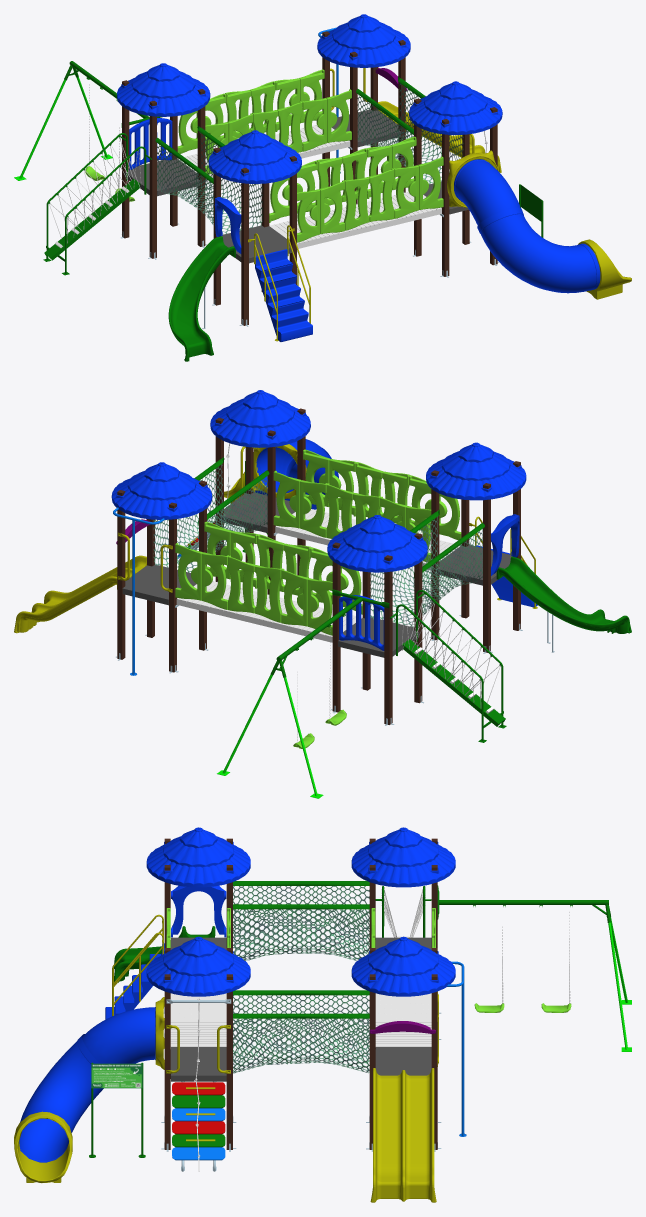
3 renders of one model, top to bottom at view 1: azimuth 30°, elevation 25°; view 2: azimuth 150°, elevation 25°; view 3: azimuth 270°, elevation 25°, orthographic. The views are drawn at different scales.
Parts seen in each view (by area): view 1: object 14, object 17, object 58, TOLDO M2, TOLDO M2.001, TOLDO M2.002, TOLDO M2.003, object 11, PASSARELA FIXA 3M M3.002, PLATAFORMA M1.004, PLATAFORMA M1.006, COLUNA MAD PLAST 9 X 9CM.009 (+35 smaller); view 2: object 14, object 17, object 58, TOLDO M2.002, TOLDO M2, TOLDO M2.001, TOLDO M2.003, object 11, PASSARELA FIXA 3M M3.001, PLATAFORMA M1, PLATAFORMA M1.002, PLATAFORMA M1.006 (+37 smaller); view 3: object 14, object 17, object 11, TOLDO M2.002, TOLDO M2, TOLDO M2.003, TOLDO M2.001, object 58, PASSARELA FIXA 3M M3.002, PASSARELA FIXA 3M M3.001, RAMPA DE NO M3, PRANCHA (+11 smaller).
Boxes of the visible parts, x1,y1,x2,y2 form: object 14: [44, 118, 600, 361]; object 17: [157, 83, 463, 234]; object 58: [14, 61, 542, 275]; TOLDO M2: [317, 14, 410, 67]; TOLDO M2.001: [208, 130, 301, 183]; TOLDO M2.002: [117, 63, 210, 116]; TOLDO M2.003: [409, 81, 502, 134]; object 11: [318, 27, 631, 299]; PASSARELA FIXA 3M M3.002: [269, 192, 443, 252]; PLATAFORMA M1.004: [124, 159, 200, 196]; PLATAFORMA M1.006: [332, 109, 400, 147]; COLUNA MAD PLAST 9 X 9CM.009: [241, 168, 248, 325]; object 14: [251, 439, 631, 726]; object 17: [153, 464, 482, 627]; object 58: [178, 443, 506, 798]; TOLDO M2.002: [327, 515, 427, 572]; TOLDO M2: [111, 462, 212, 519]; TOLDO M2.001: [426, 442, 526, 500]; TOLDO M2.003: [210, 390, 310, 447]; object 11: [14, 472, 254, 675]; PASSARELA FIXA 3M M3.001: [175, 581, 362, 642]; PLATAFORMA M1: [436, 545, 512, 585]; PLATAFORMA M1.002: [221, 492, 294, 532]; PLATAFORMA M1.006: [122, 564, 196, 605]; object 14: [19, 885, 226, 1162]; object 17: [233, 886, 369, 1073]; object 11: [14, 961, 466, 1202]; TOLDO M2.002: [351, 827, 455, 887]; TOLDO M2: [351, 936, 455, 996]; TOLDO M2.003: [146, 936, 250, 996]; TOLDO M2.001: [146, 827, 250, 887]; object 58: [194, 885, 631, 1171]; PASSARELA FIXA 3M M3.002: [170, 993, 226, 1048]; PASSARELA FIXA 3M M3.001: [375, 993, 431, 1046]; RAMPA DE NO M3: [172, 1081, 225, 1171]; PRANCHA: [172, 1082, 225, 1147].
Size of the model in its own units: 8.31 by 3.21 by 9.05.
Materials: 24 (3 with a texture image).
